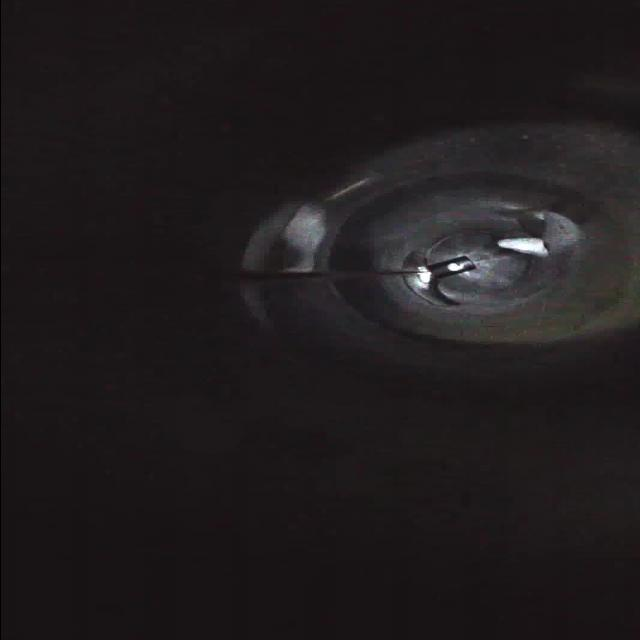impurity: (491, 232, 558, 261)
